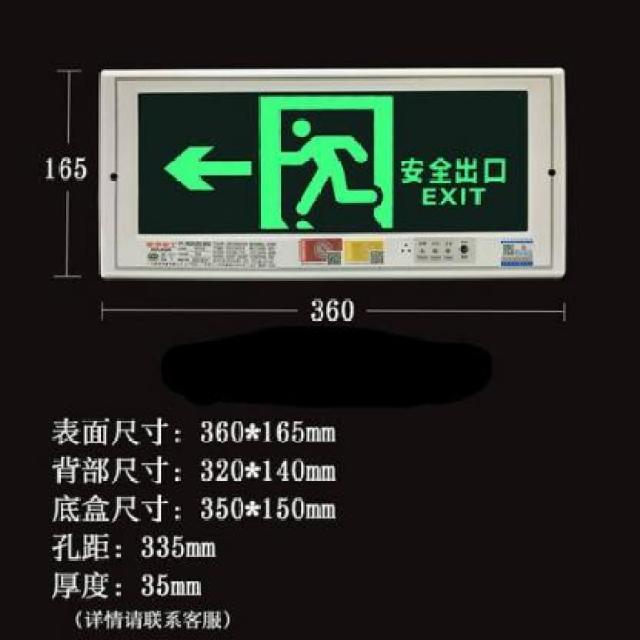exit_sign: (130, 88, 542, 243)
